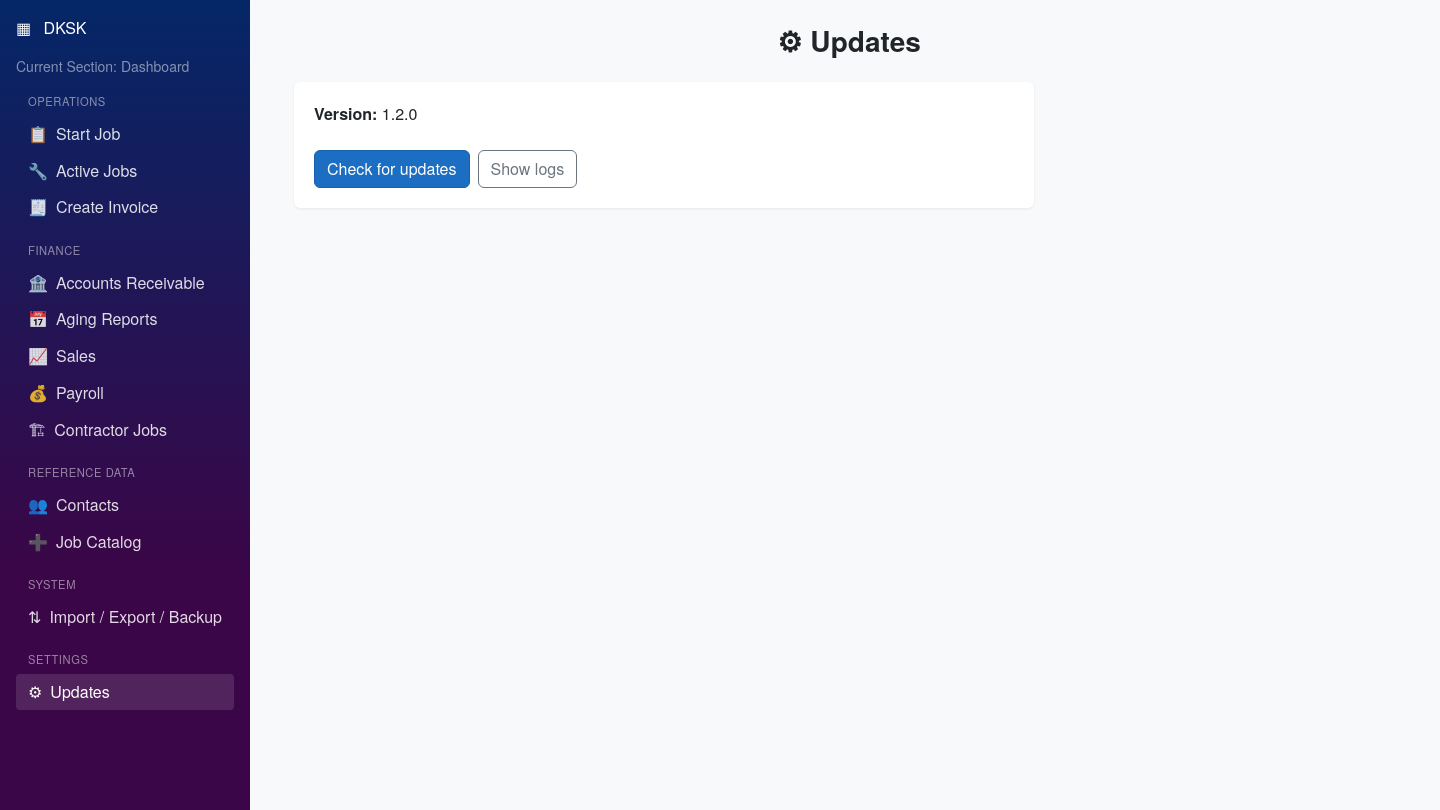
it: Updater end-to-end (Updates page + dialog) › walks through download and install phases for a newer release
Click the button "Check for updates".
click(392, 169)  # box 314,150 -> 470,188
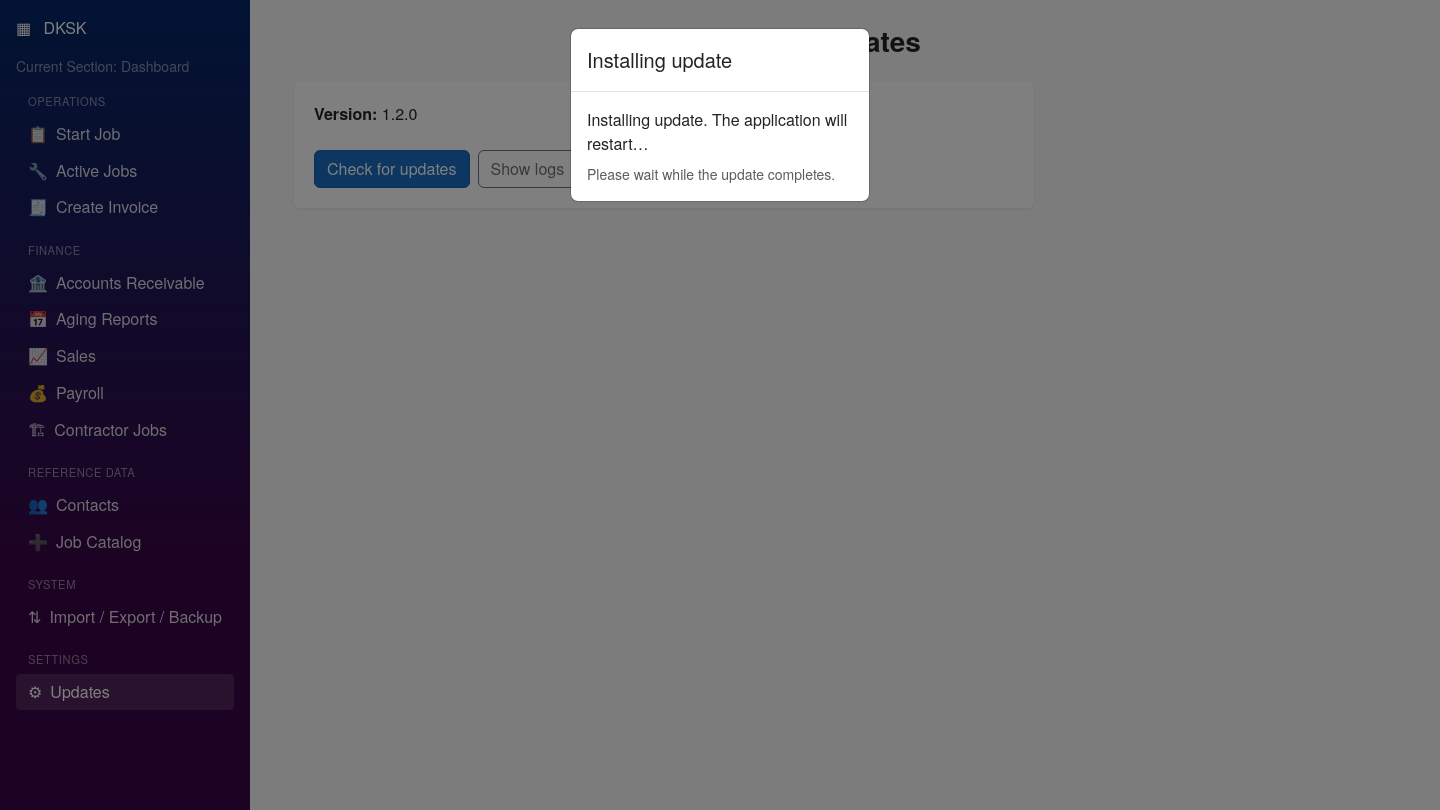
Now the heading "Installing update" is shown, box 587,45 -> 732,75
